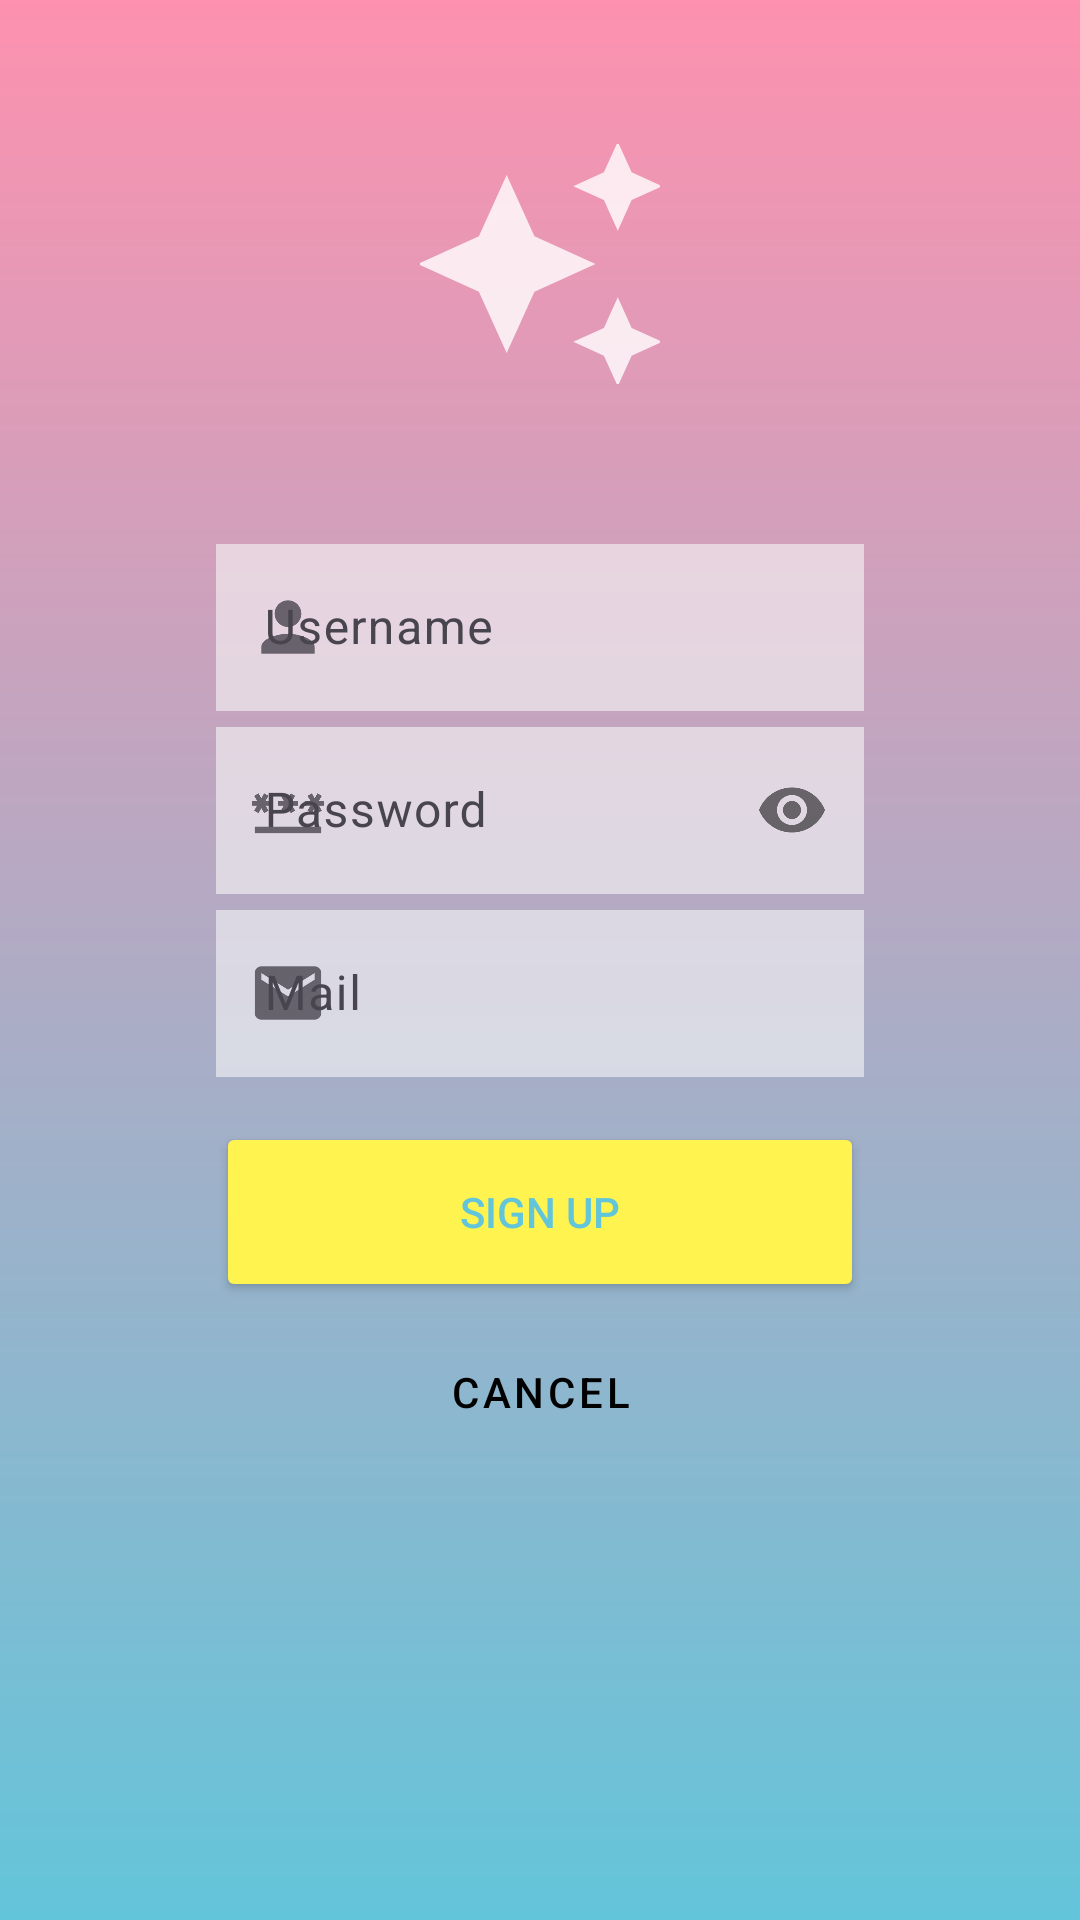

Icon click points for this 1080×1920 phone screenshot, format point (x, y):
estrellas: point (540, 264)
